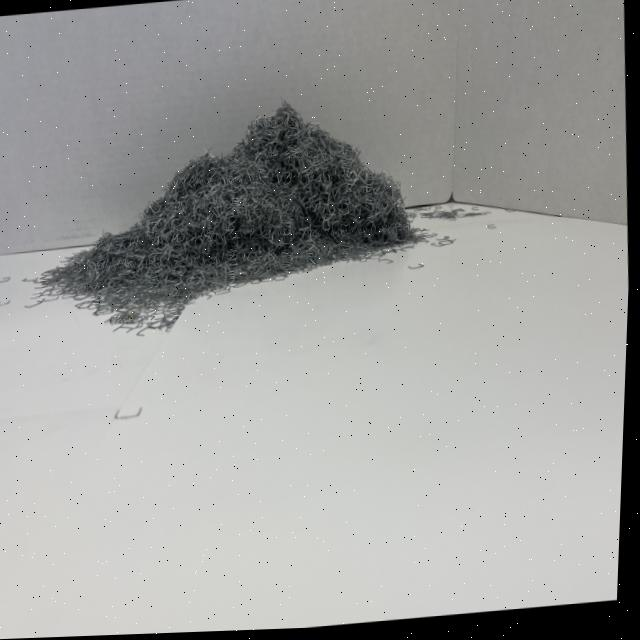staples: (25, 85, 427, 311)
